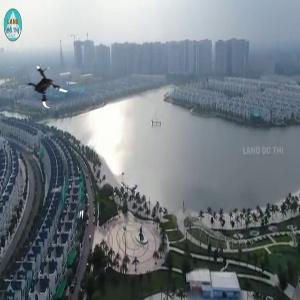drone: (21, 61, 72, 112)
